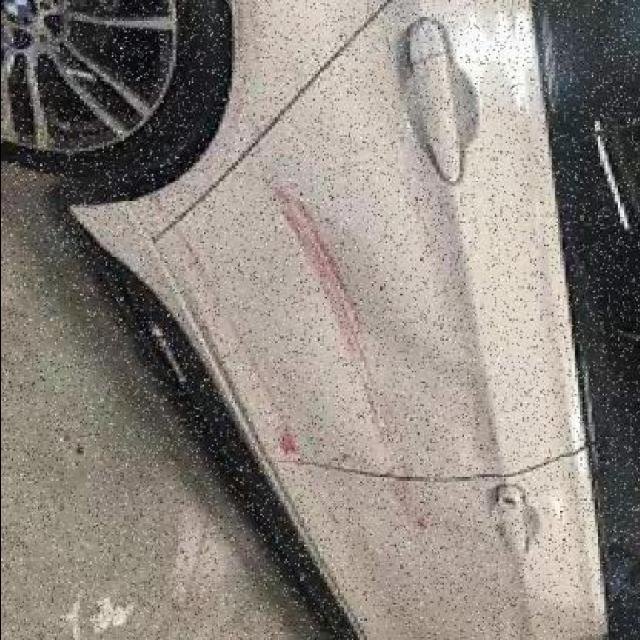doorouter-dent: (220, 20, 557, 460), (278, 468, 605, 634)
